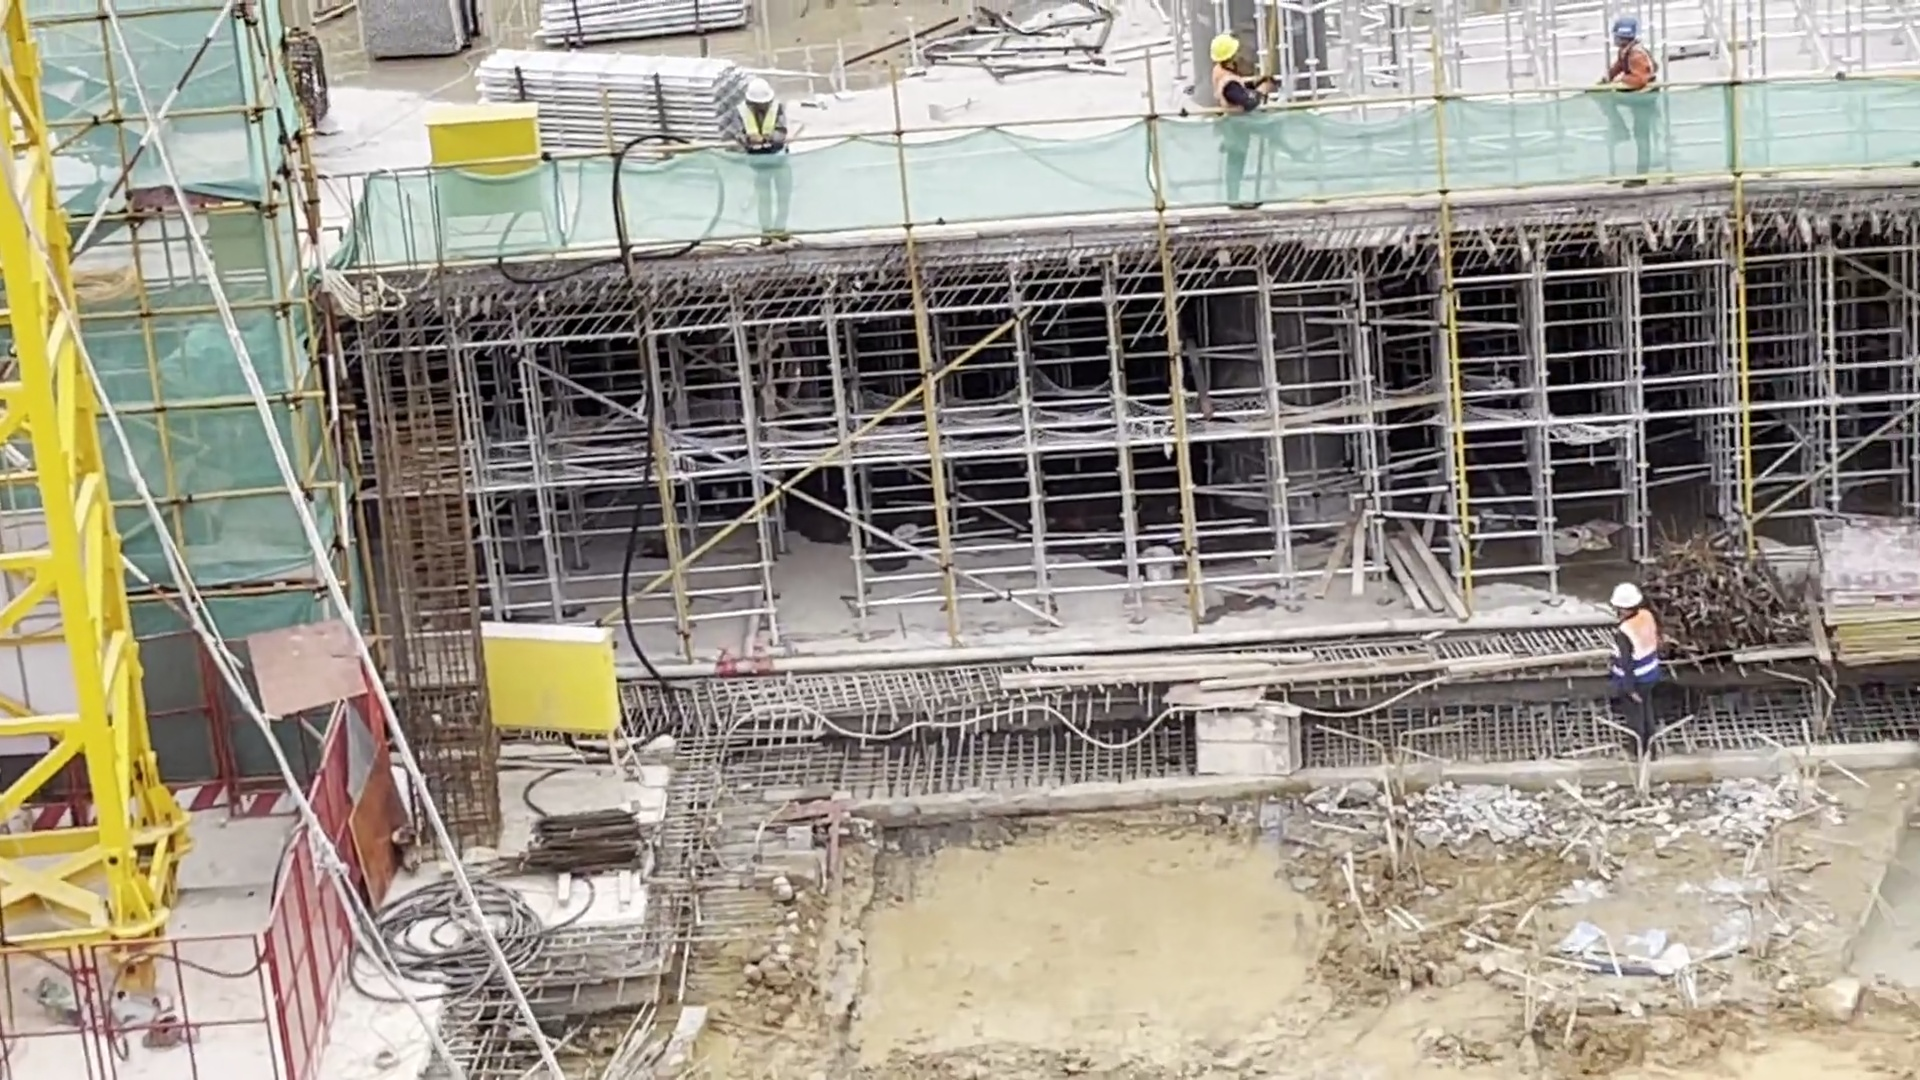board: (1801, 509, 1920, 669)
brick: (490, 50, 733, 160)
helmet: (742, 73, 783, 106), (1209, 30, 1249, 63), (1608, 580, 1649, 612), (1610, 15, 1641, 42)
person: (728, 71, 806, 249), (1595, 15, 1671, 195), (1202, 28, 1273, 219), (1595, 581, 1668, 758)
vest: (1208, 69, 1273, 141), (1608, 606, 1667, 685), (1603, 46, 1668, 106), (741, 106, 790, 163)
